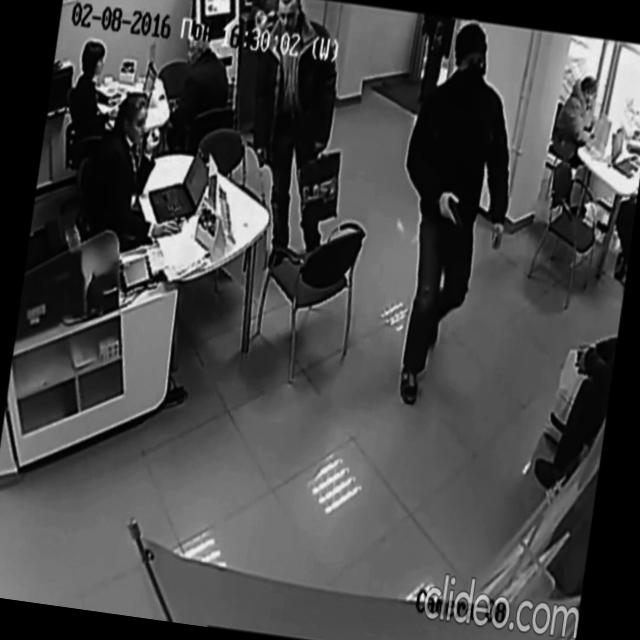gun: (442, 193, 471, 238)
person: (229, 0, 358, 281), (75, 84, 198, 262), (542, 70, 610, 218), (60, 37, 132, 166)
person with a gun: (372, 16, 534, 420)
